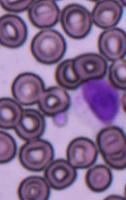L: (73, 77, 122, 130)
